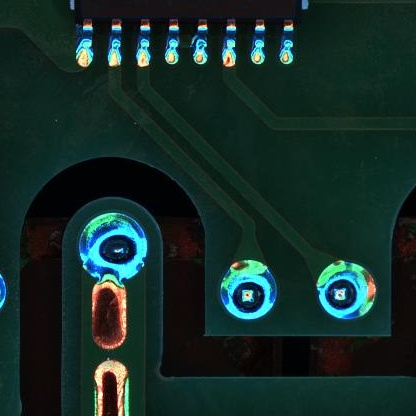spot: (74, 210, 148, 278), (315, 261, 376, 321), (218, 260, 278, 319)
